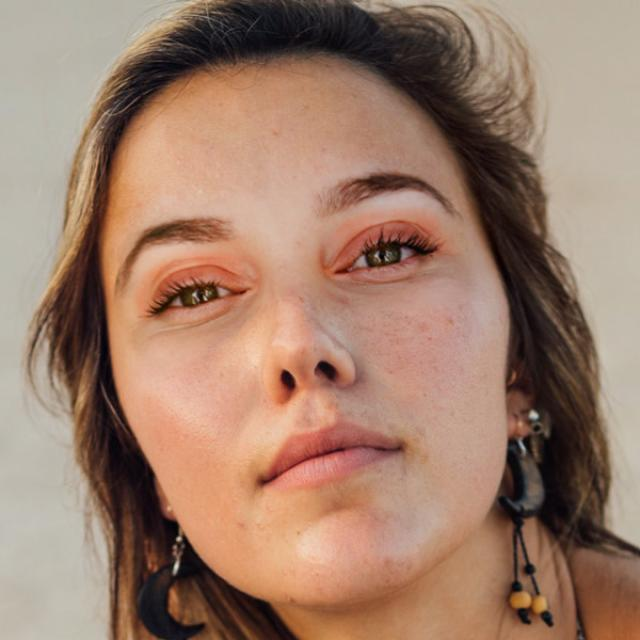face: (67, 25, 530, 614)
